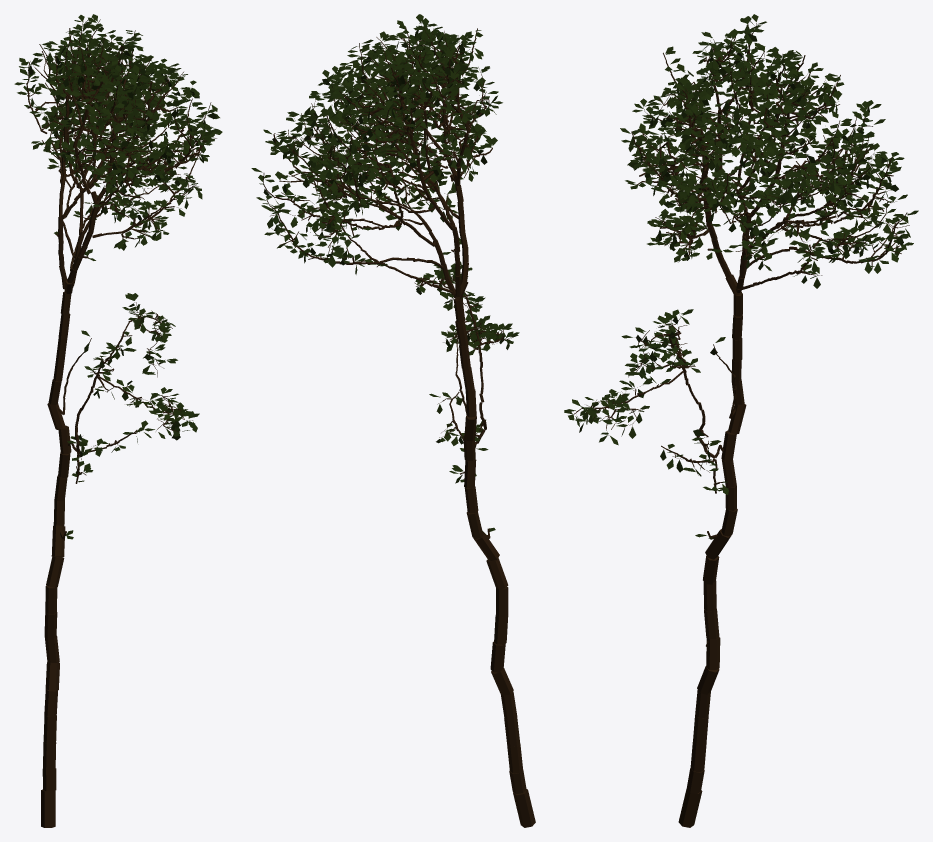
File: tree_109.obj
The picture shows the model from 3 angles, left to right: view 1: azimuth 30°, elevation 25°; view 2: azimuth 150°, elevation 25°; view 3: azimuth 270°, elevation 25°; orthographic projection. The views are drawn at different scales.
Visible parts, largest first — view 1: Leaves, TrunkAndBranches; view 2: Leaves, TrunkAndBranches; view 3: Leaves, TrunkAndBranches.
Part boxes in pixels (box(x1,y1,x2,y2)): Leaves: box(14, 14, 222, 539); TrunkAndBranches: box(26, 19, 216, 827); Leaves: box(251, 14, 519, 534); TrunkAndBranches: box(263, 25, 535, 827); Leaves: box(564, 14, 918, 538); TrunkAndBranches: box(573, 23, 909, 827).
Bounding box in the file's own units: 5.27 × 20.62 × 7.86.
